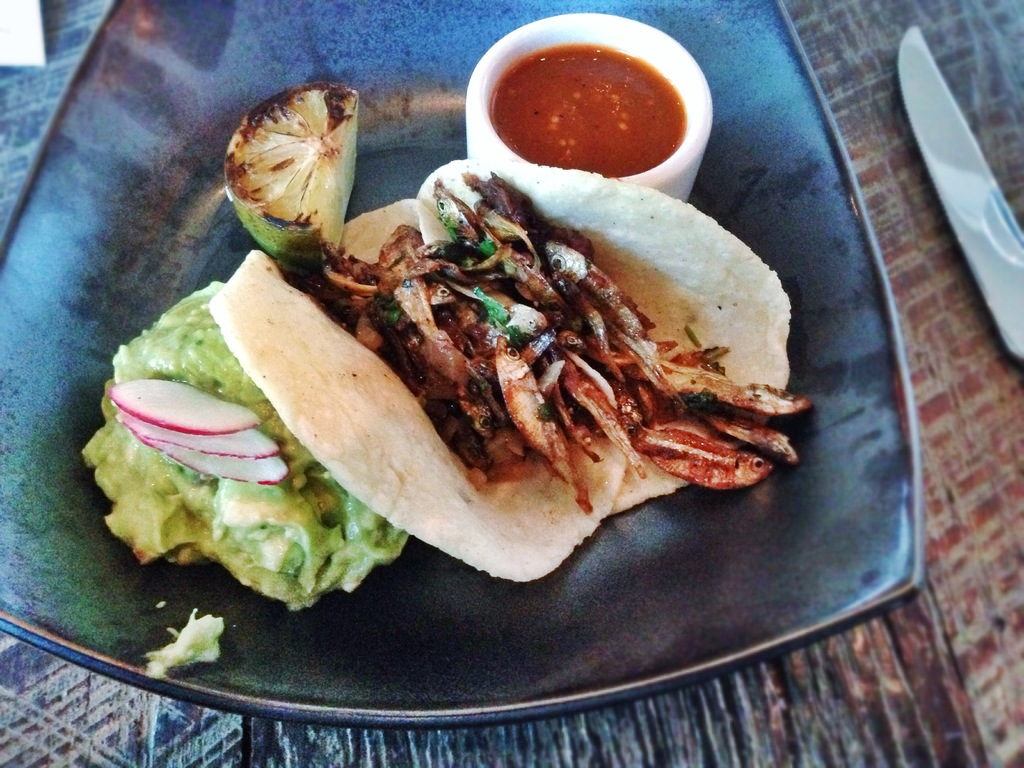taco: (210, 157, 806, 587), (407, 152, 799, 472)
